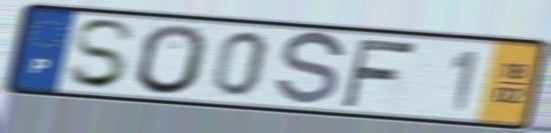0: (210, 29, 272, 101)
1: (447, 49, 480, 113)
F: (338, 36, 422, 109)
O: (134, 22, 210, 98)
S: (271, 29, 349, 110), (64, 17, 141, 92)
